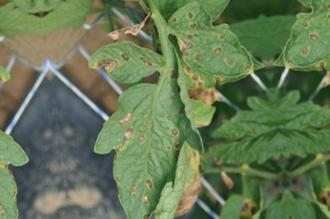Tomato Early blight leaf: (87, 54, 212, 219), (167, 0, 253, 90), (83, 32, 173, 90), (210, 178, 274, 219)
